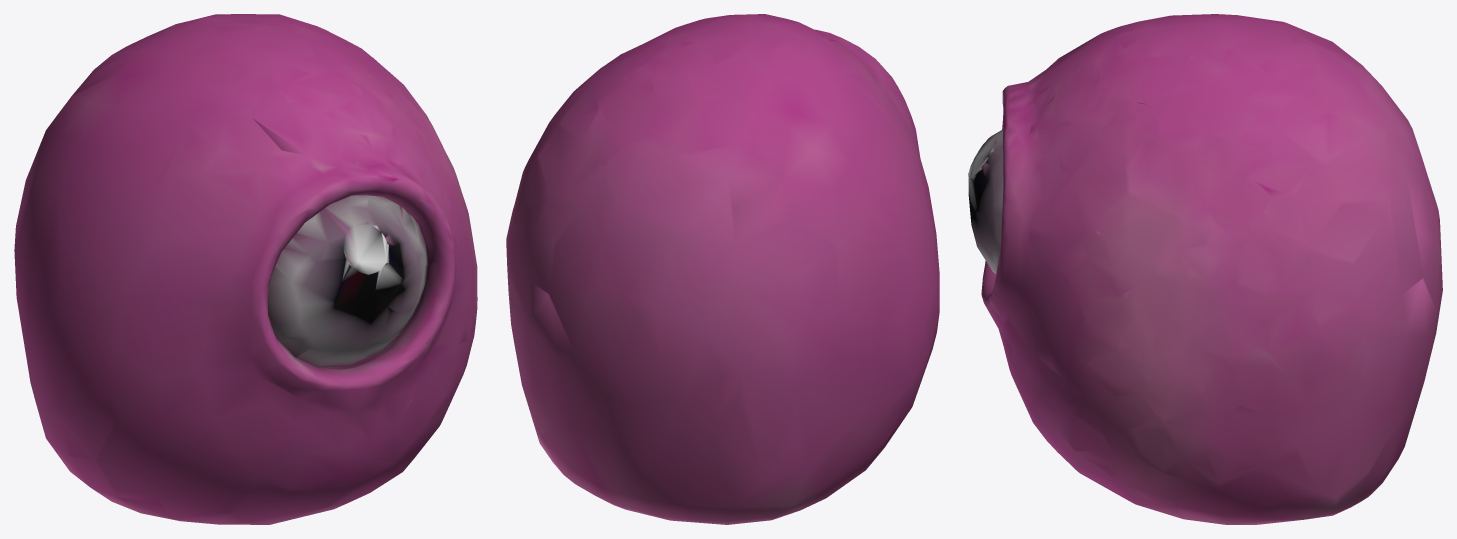
Rendered from volley_emitter.glb.
3 views of the same model, side by side, from view 1: azimuth 30°, elevation 25°; view 2: azimuth 150°, elevation 25°; view 3: azimuth 270°, elevation 25° (orthographic). The views are drawn at different scales.
Parts seen in each view (by area): view 1: geometry_0; view 2: geometry_0; view 3: geometry_0.
Boxes of the visible parts, x1=… form: geometry_0: x1=14, y1=14, x2=477, y2=524; geometry_0: x1=506, y1=14, x2=939, y2=524; geometry_0: x1=968, y1=14, x2=1442, y2=524.
Bounding box in the file's own units: 1.71 × 1.9 × 1.81.
